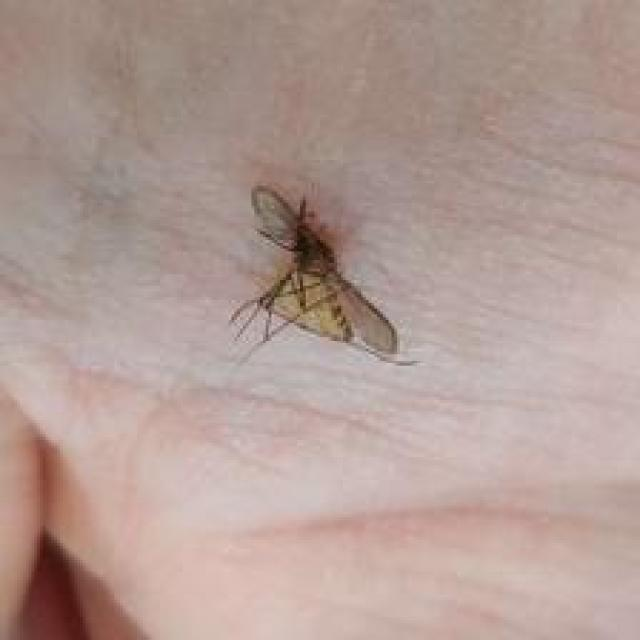Culex: (227, 182, 416, 367)
